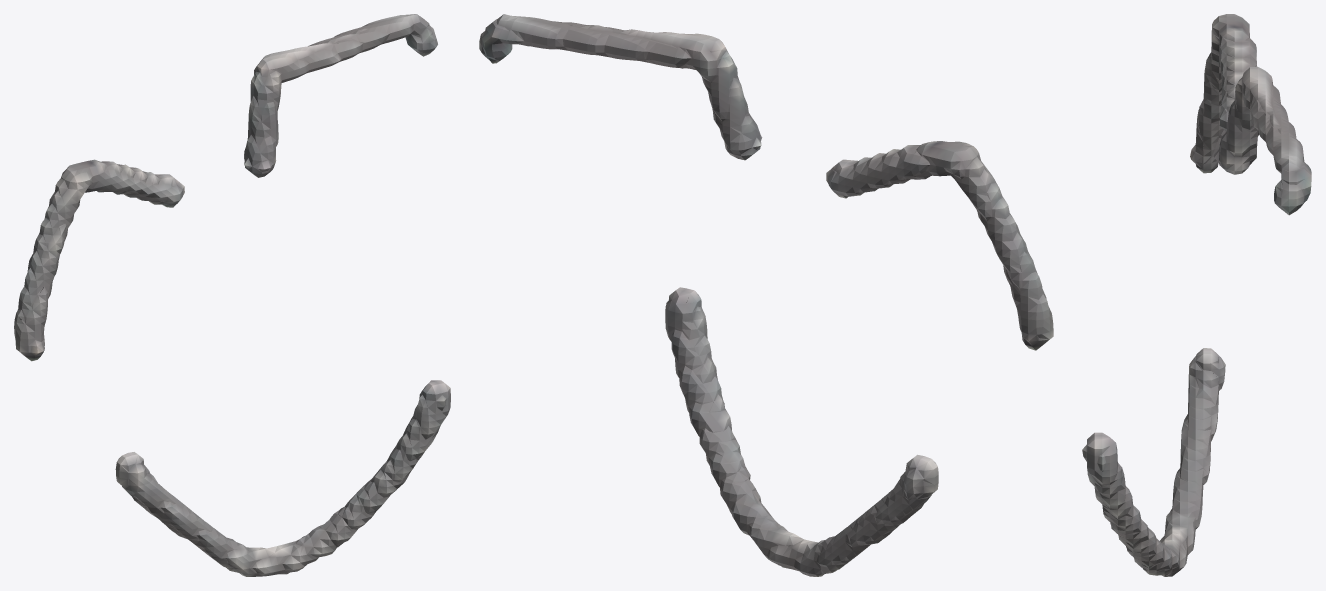
The picture shows the model from 3 angles, left to right: view 1: azimuth 30°, elevation 25°; view 2: azimuth 150°, elevation 25°; view 3: azimuth 270°, elevation 25°; orthographic projection. The views are drawn at different scales.
Parts seen in each view (by area): view 1: world; view 2: world; view 3: world.
Part boxes in pixels (<box>): world: <box>14,14,450,576</box>; world: <box>479,14,1053,576</box>; world: <box>1082,14,1311,576</box>.
Size of the model in its own units: 0.9986 by 1.01 by 0.4046.
Materials: 1 (1 with a texture image).
